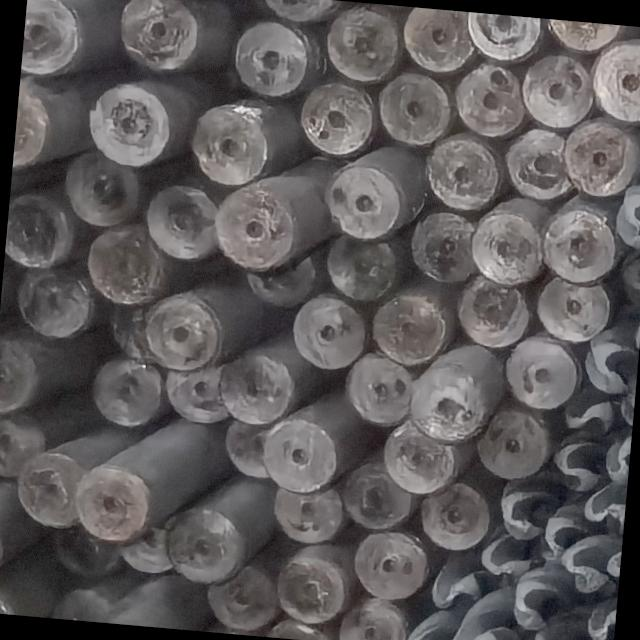tool: (320, 142, 430, 246), (187, 90, 303, 188), (406, 337, 509, 439), (212, 176, 304, 276), (86, 80, 174, 166), (537, 194, 618, 286), (85, 220, 170, 306), (559, 114, 640, 204), (469, 194, 548, 286), (322, 1, 404, 86), (368, 287, 451, 369), (464, 405, 552, 482), (4, 179, 76, 272), (426, 128, 506, 210), (299, 76, 381, 156), (416, 465, 494, 549), (378, 415, 459, 495), (114, 0, 198, 77), (142, 180, 222, 260), (66, 147, 147, 226), (290, 293, 370, 372), (452, 270, 532, 348), (504, 331, 582, 409), (17, 264, 92, 345), (374, 72, 453, 148), (338, 455, 415, 532), (450, 58, 526, 136), (232, 22, 308, 100), (205, 561, 282, 636), (518, 50, 592, 128), (166, 505, 244, 579), (15, 447, 86, 528), (324, 228, 397, 306), (341, 348, 414, 424), (353, 530, 430, 602), (20, 0, 85, 82), (502, 125, 572, 201), (405, 206, 475, 282), (94, 359, 166, 432), (268, 424, 344, 493), (148, 299, 218, 371), (268, 481, 344, 546), (401, 6, 472, 73), (163, 359, 234, 426), (220, 355, 290, 422), (539, 277, 613, 340), (276, 554, 345, 621), (78, 470, 146, 537), (590, 33, 640, 123), (222, 415, 286, 478), (248, 248, 312, 308), (469, 12, 542, 63), (12, 84, 54, 166), (331, 594, 405, 640), (105, 302, 163, 360), (0, 407, 47, 476), (0, 338, 41, 416), (544, 18, 630, 54), (115, 524, 173, 576), (246, 0, 364, 24), (52, 582, 109, 622), (0, 478, 9, 584)
tool_b: (509, 560, 575, 632), (452, 586, 530, 640), (501, 473, 562, 542), (560, 532, 622, 598), (544, 429, 608, 492), (428, 546, 489, 612), (578, 332, 637, 397), (559, 382, 613, 432), (583, 478, 627, 534), (532, 610, 599, 640), (613, 179, 640, 248), (604, 426, 632, 484), (617, 243, 640, 310), (585, 596, 616, 640), (605, 538, 622, 590)
